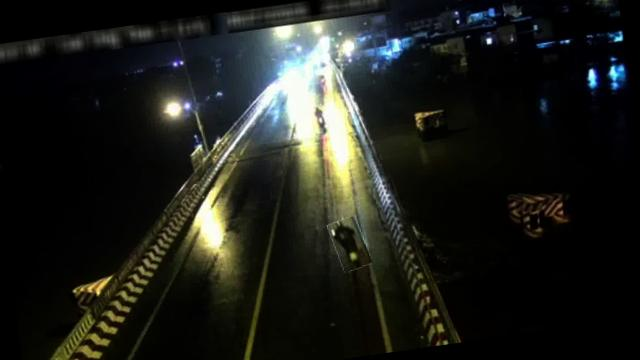Bike: (328, 214, 369, 273), (311, 104, 328, 134)
